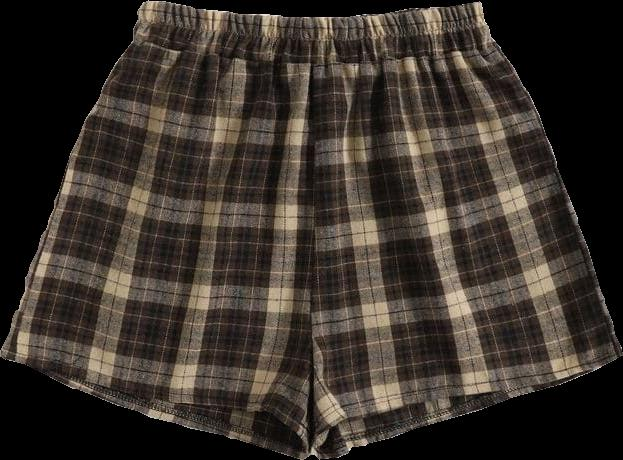Hemline: (313, 352, 622, 457), (0, 354, 315, 455)
Pantleg: (0, 1, 313, 459), (311, 2, 622, 458)
Waistline: (133, 36, 493, 67), (141, 0, 479, 22)
